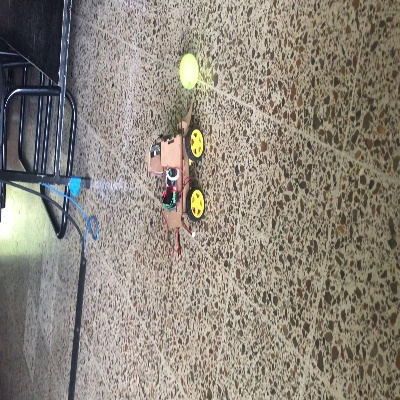Ball: (179, 53, 199, 89)
Robot: (148, 104, 205, 231)
